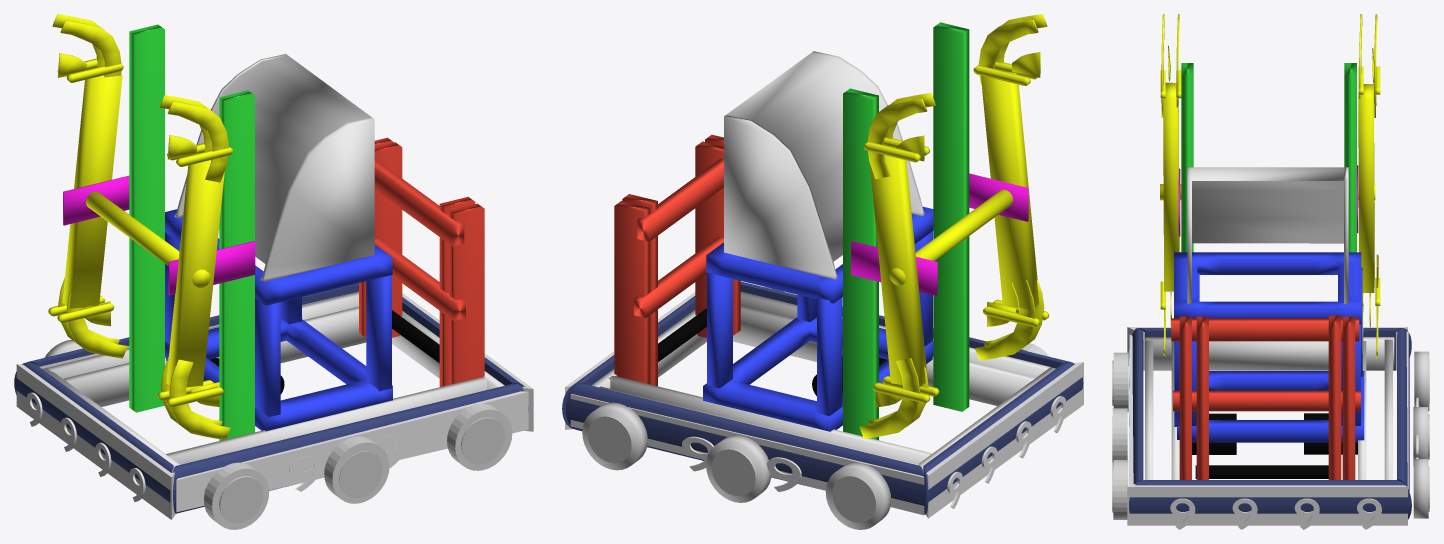
Rendered from BumperBack.dae.
The picture shows the model from 3 angles, left to right: view 1: azimuth 30°, elevation 25°; view 2: azimuth 150°, elevation 25°; view 3: azimuth 270°, elevation 25°; orthographic projection. The views are drawn at different scales.
Parts seen in each view (by area): view 1: Plane.003, Circle.005, Plane.004, Cube.007, Chassis, Cube.004, BumperBeamsRight, Cube.016, BumperBeamsBack, BumperRight, Circle.003, BumperBack (+16 smaller); view 2: Plane.003, Circle.005, Plane.004, Cube.004, Chassis, Cube.007, BumperLeft, Cube.017, BumperBeamsBack, BumperBeamsLeft, Circle.003, BumperBack (+15 smaller); view 3: Plane.004, Circle.005, Plane.003, Chassis, BumperBeamsFront, BumperFront, Cube.019, Cube.018, Cube.015, Cube.017, Cube.014, Cube.016 (+16 smaller).
Part boxes in pixels (x1=…): Plane.003: x1=48, y1=14, x2=232, y2=439; Circle.005: x1=174, y1=54, x2=374, y2=281; Plane.004: x1=165, y1=209, x2=392, y2=431; Cube.007: x1=129, y1=24, x2=164, y2=412; Chassis: x1=42, y1=292, x2=504, y2=467; Cube.004: x1=219, y1=90, x2=254, y2=440; BumperBeamsRight: x1=176, y1=391, x2=528, y2=512; Cube.016: x1=449, y1=203, x2=484, y2=384; BumperBeamsBack: x1=16, y1=364, x2=175, y2=519; BumperRight: x1=172, y1=384, x2=528, y2=513; Circle.003: x1=63, y1=175, x2=255, y2=295; BumperBack: x1=14, y1=362, x2=173, y2=502; Plane.003: x1=859, y1=14, x2=1049, y2=438; Circle.005: x1=724, y1=51, x2=925, y2=279; Plane.004: x1=703, y1=206, x2=933, y2=431; Cube.004: x1=933, y1=22, x2=969, y2=411; Chassis: x1=591, y1=291, x2=1055, y2=469; Cube.007: x1=843, y1=88, x2=878, y2=440; BumperLeft: x1=566, y1=384, x2=925, y2=510; Cube.017: x1=614, y1=201, x2=650, y2=384; BumperBeamsBack: x1=923, y1=362, x2=1083, y2=518; BumperBeamsLeft: x1=570, y1=394, x2=924, y2=515; Circle.003: x1=851, y1=173, x2=1028, y2=295; BumperBack: x1=923, y1=362, x2=1083, y2=514; Plane.004: x1=1174, y1=252, x2=1364, y2=442; Circle.005: x1=1187, y1=167, x2=1348, y2=303; Plane.003: x1=1160, y1=14, x2=1380, y2=358; Chassis: x1=1145, y1=337, x2=1394, y2=479; BumperBeamsFront: x1=1127, y1=484, x2=1407, y2=525; BumperFront: x1=1129, y1=480, x2=1411, y2=519; Cube.019: x1=1171, y1=318, x2=1359, y2=341; Cube.018: x1=1173, y1=390, x2=1360, y2=411; Cube.015: x1=1328, y1=315, x2=1341, y2=479; Cube.017: x1=1342, y1=316, x2=1355, y2=479; Cube.014: x1=1196, y1=316, x2=1208, y2=479; Cube.016: x1=1179, y1=316, x2=1191, y2=479.
Size of the model in its own units: 2.33 by 1.91 by 2.53.
